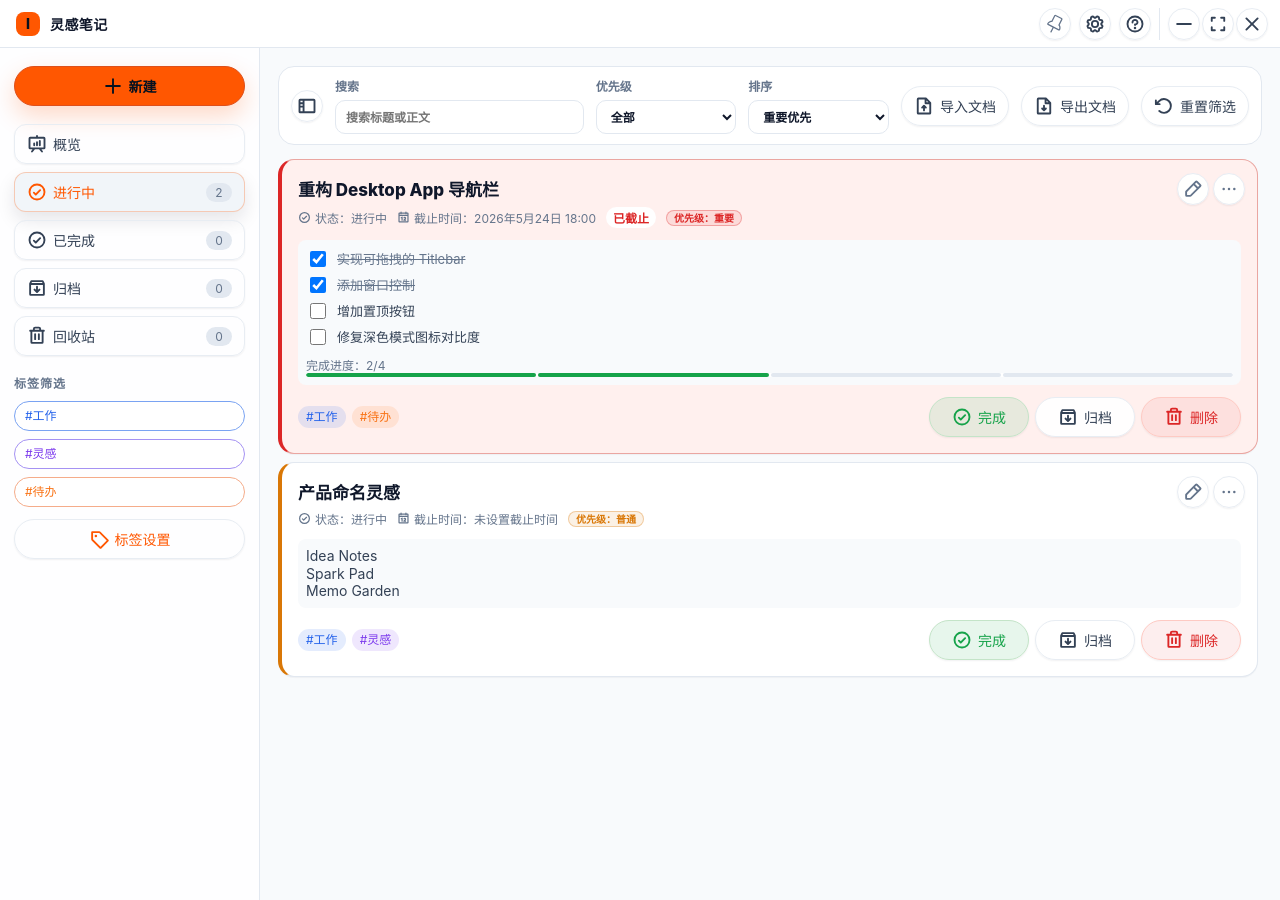
Test: App trash failure › 卡片移入回收站保存失败时保留当前视图和原卡片状态并显示错误提示
Click the 1st button "删除" at (1191, 417), box [1141, 397, 1241, 437]
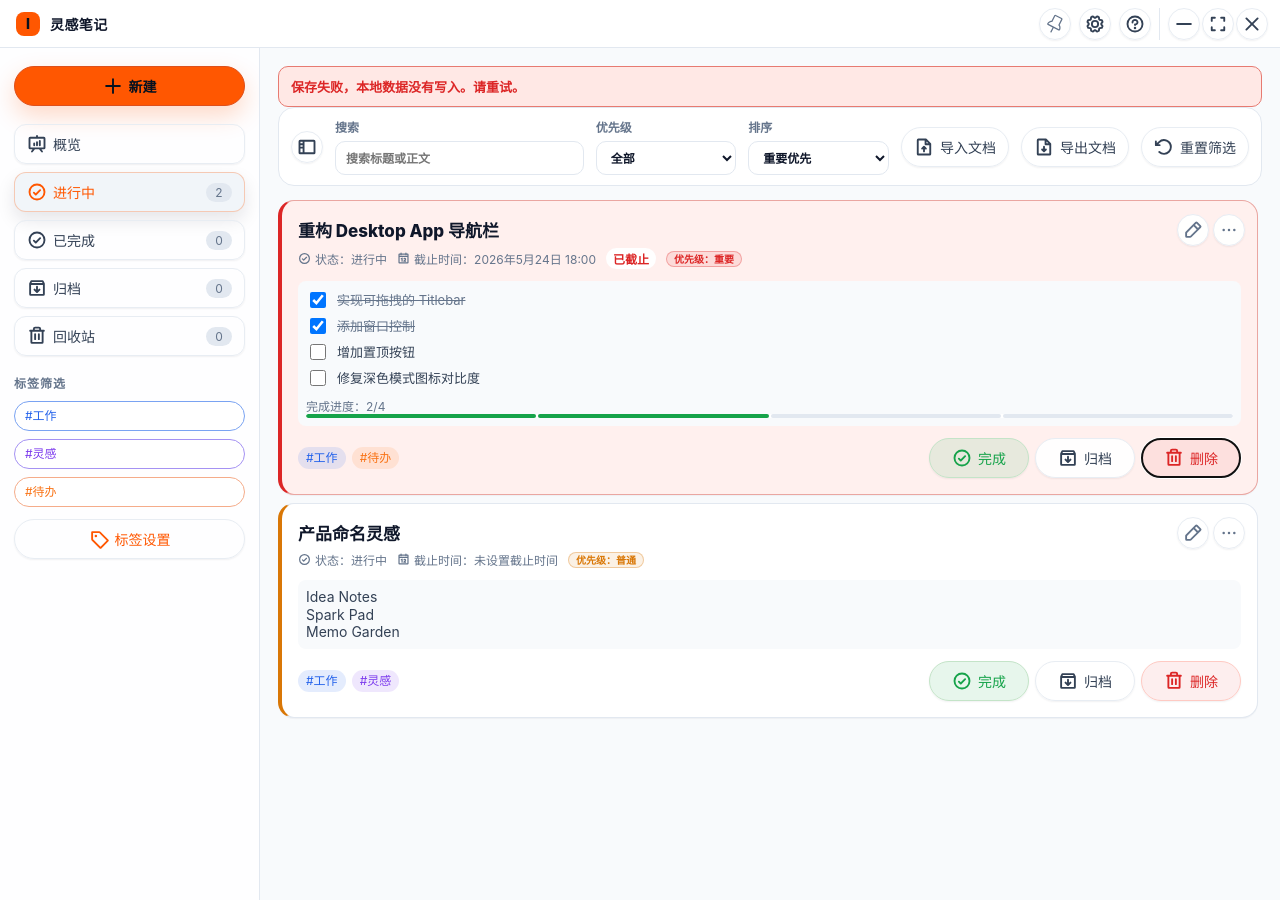
Expected: the 1st text "状态：进行中" is shown, [298, 250, 387, 267]
Expected: the message reads "保存失败，本地数据没有写入。请重试。", [291, 79, 525, 95]
